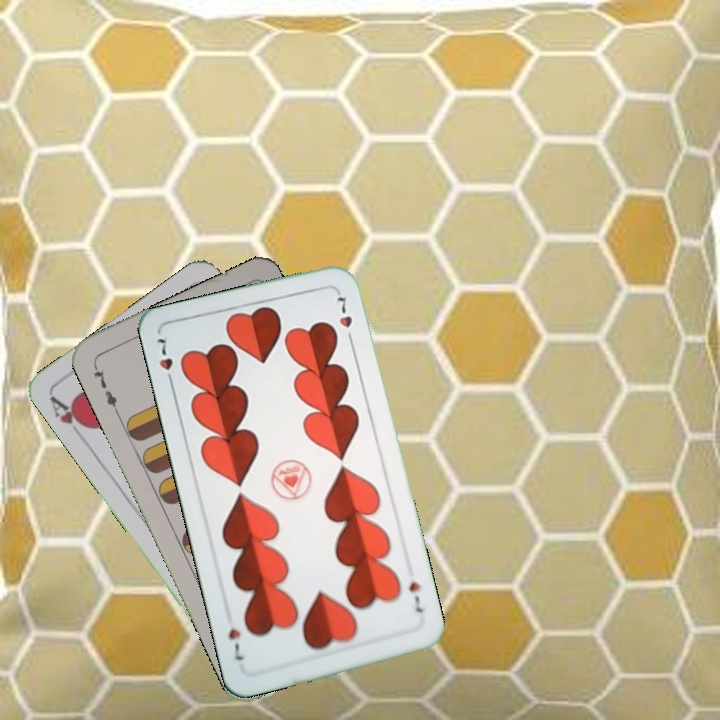E7: (89, 360, 121, 416)
H7: (153, 334, 177, 390), (405, 578, 426, 616)
HA: (45, 392, 93, 444)
